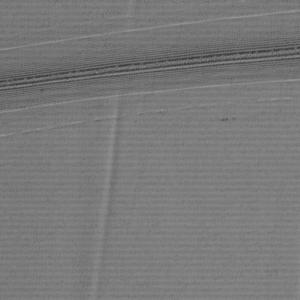Stain: (209, 110, 247, 131)
Wrinkle: (88, 96, 129, 300)
